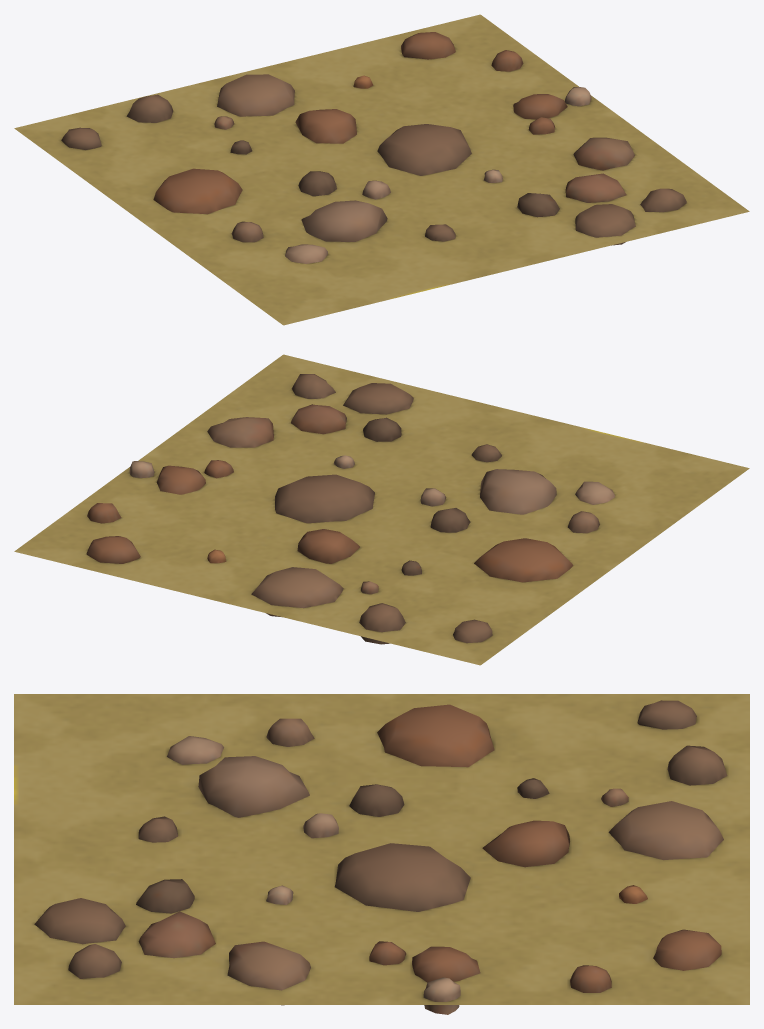
Rendered from S-Sol_Cailloux2.FBX.
3 views of the same model, one above another, from view 1: azimuth 30°, elevation 25°; view 2: azimuth 150°, elevation 25°; view 3: azimuth 270°, elevation 25° (orthographic). The views are drawn at different scales.
Visible parts, largest first — view 1: Sol_Cailloux2; view 2: Sol_Cailloux2; view 3: Sol_Cailloux2.
Boxes of the visible parts, x1,y1,x2,y2 form: Sol_Cailloux2: (14,14,749,325); Sol_Cailloux2: (14,354,749,665); Sol_Cailloux2: (14,694,749,1014).
Size of the model in its own units: 2 by 0.1372 by 2.
